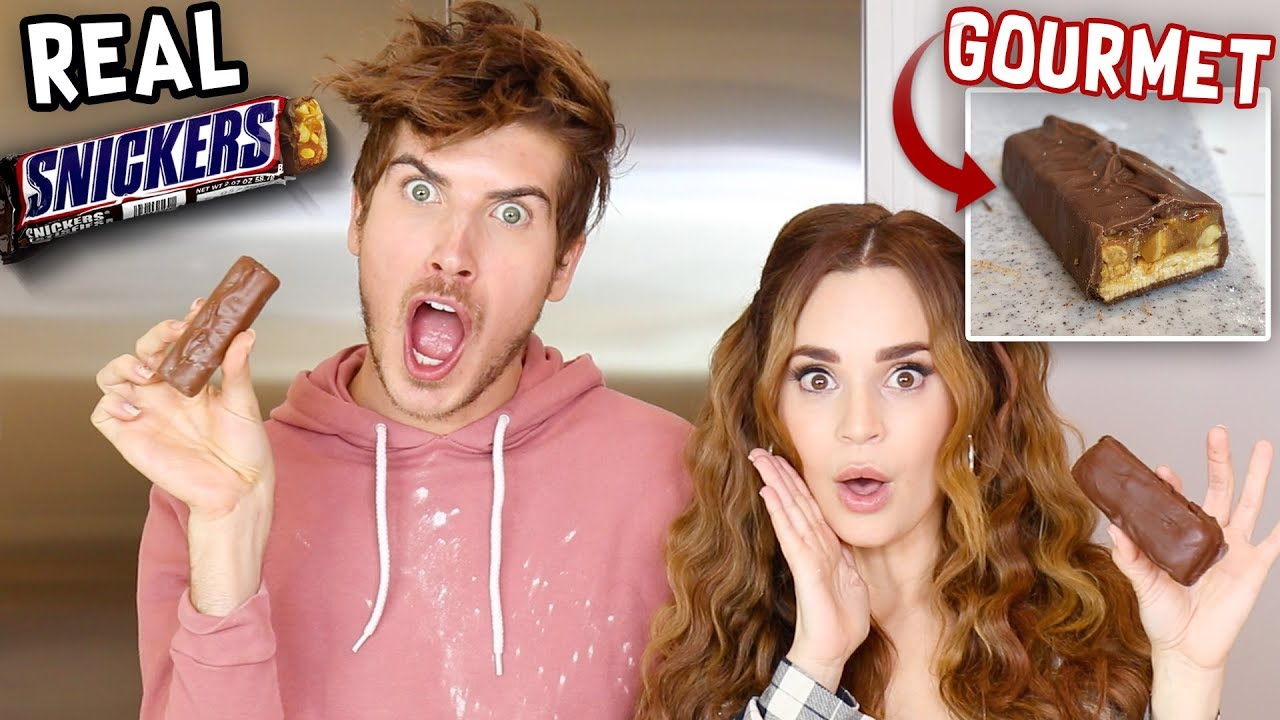snickers: (20, 97, 273, 218)
